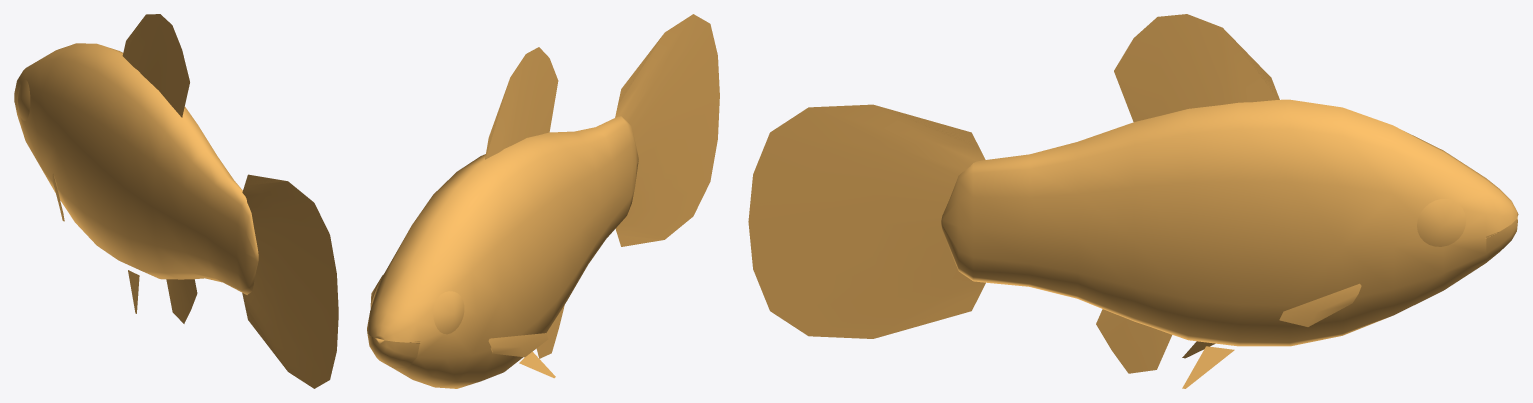
The model's file is platy_game.glb.
The picture shows the model from 3 angles, left to right: view 1: azimuth 30°, elevation 25°; view 2: azimuth 150°, elevation 25°; view 3: azimuth 270°, elevation 25°; orthographic projection. The views are drawn at different scales.
Parts seen in each view (by area): view 1: platy_game; view 2: platy_game; view 3: platy_game.
Part boxes in pixels (x1,y1,x2,y2): platy_game: (14, 14, 338, 388); platy_game: (367, 14, 719, 388); platy_game: (748, 14, 1518, 388).
Bounding box in the file's own units: 0.0107 × 0.0258 × 0.05.
